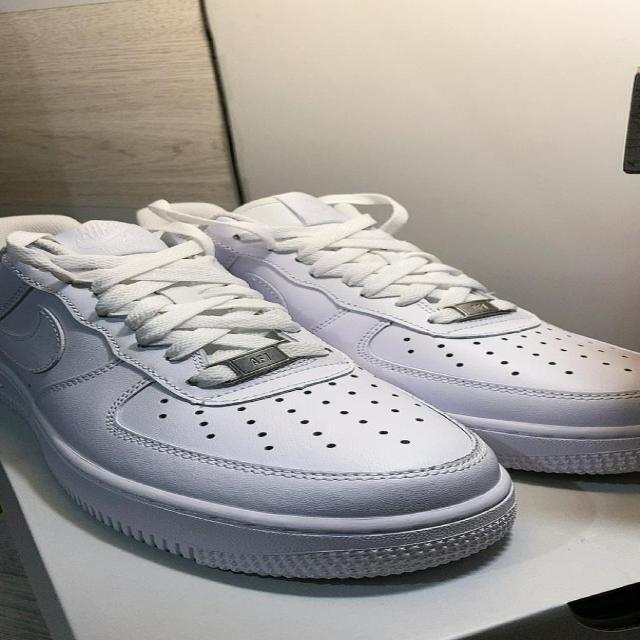nike original air force: (0, 211, 525, 588), (108, 191, 640, 482)
